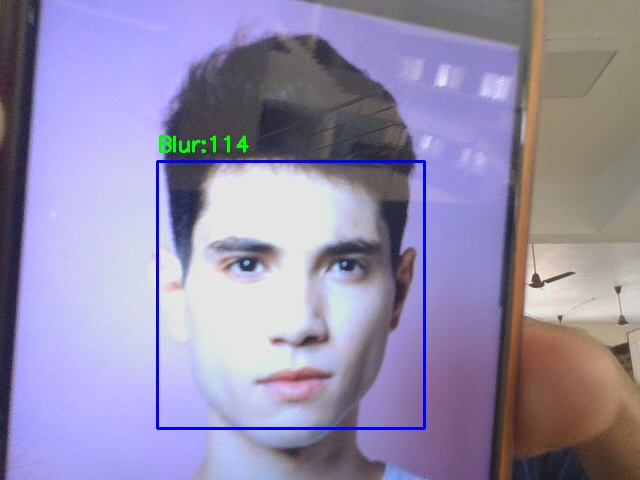fake: (157, 161, 424, 428)
